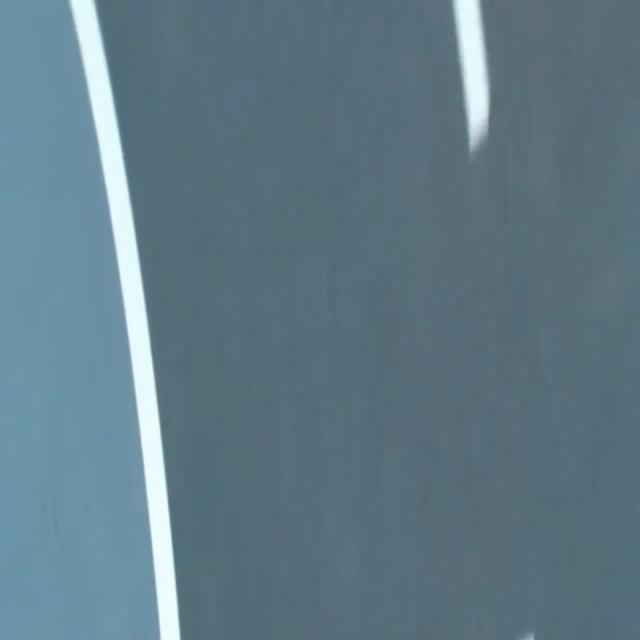center: (452, 0, 490, 155)
left: (68, 0, 180, 639)
